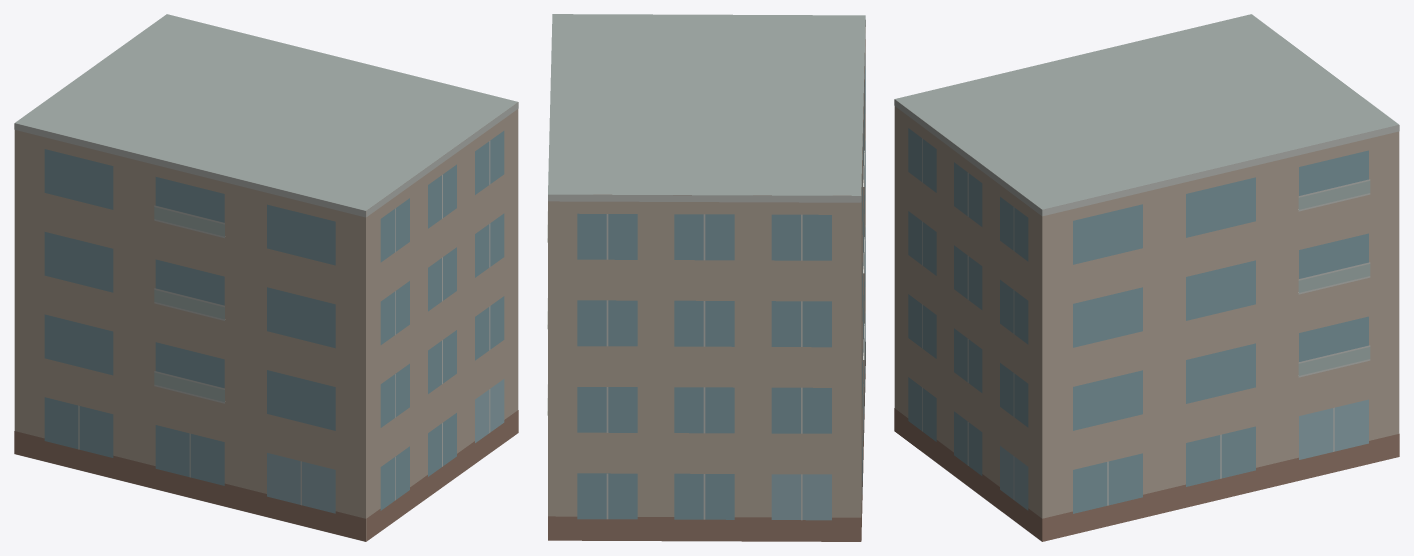
The model's file is residential-13fd8cac-719b-463a-845b-f7638482339e.glb.
3 views of the same model, side by side, from view 1: azimuth 30°, elevation 25°; view 2: azimuth 150°, elevation 25°; view 3: azimuth 270°, elevation 25° (orthographic). The views are drawn at different scales.
Parts seen in each view (by area): view 1: residential-13fd8cac-719b-463a-845b-f7638482339e.tmp; view 2: residential-13fd8cac-719b-463a-845b-f7638482339e.tmp; view 3: residential-13fd8cac-719b-463a-845b-f7638482339e.tmp.
Boxes of the visible parts, bbox=[...] form: residential-13fd8cac-719b-463a-845b-f7638482339e.tmp: bbox=[14, 14, 518, 541]; residential-13fd8cac-719b-463a-845b-f7638482339e.tmp: bbox=[547, 14, 865, 541]; residential-13fd8cac-719b-463a-845b-f7638482339e.tmp: bbox=[894, 14, 1399, 541].
Size of the model in its own units: 15.43 by 12.2 by 16.82.
